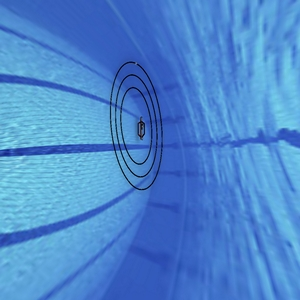circle: (101, 47, 172, 202)
submarine: (129, 110, 150, 144)
